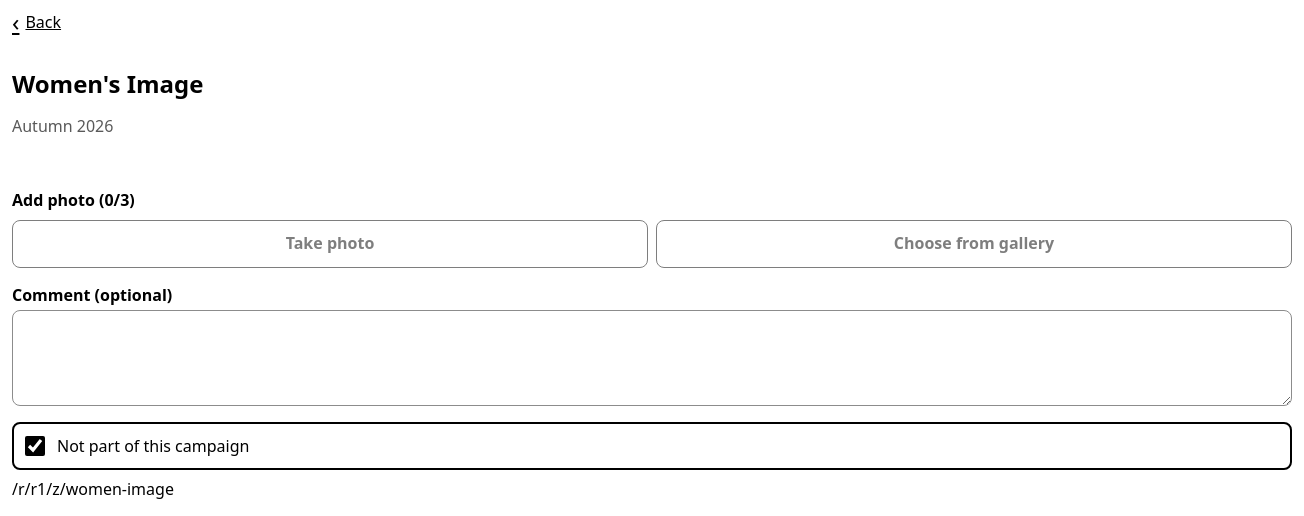
Test: DraftZonePage: not part of this campaign › a zone already marked starts checked, and turning it off saves
The width and height of the screenshot is (1304, 516).
Click the checkbox labelled "Not part of this campaign": (35, 446) [25,436,45,456]
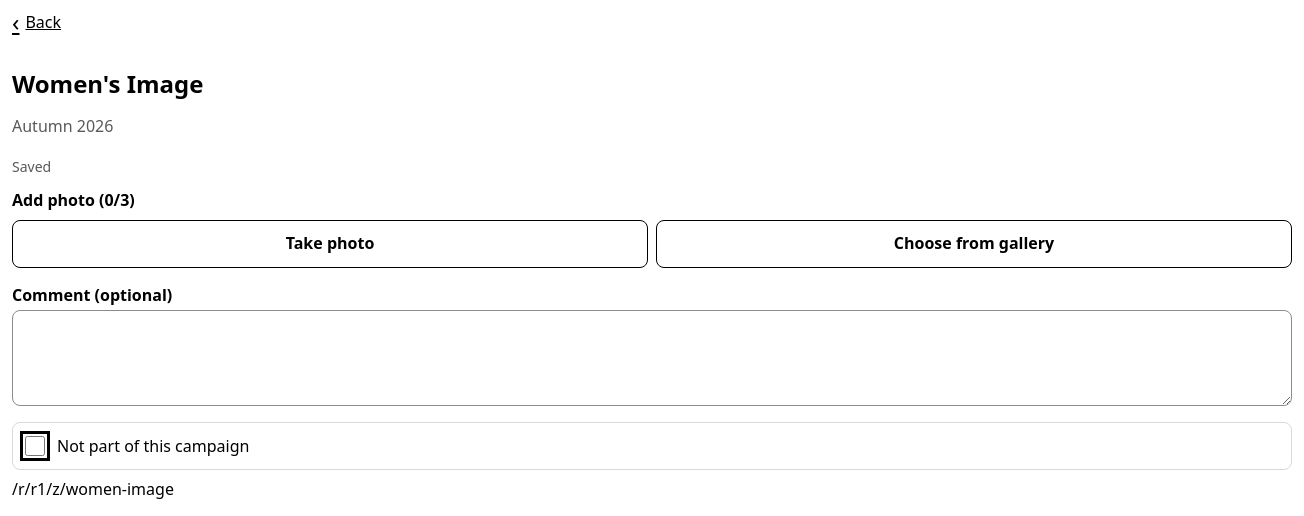
expect the button "Take photo" is enabled: met, box [12,220,648,268]
